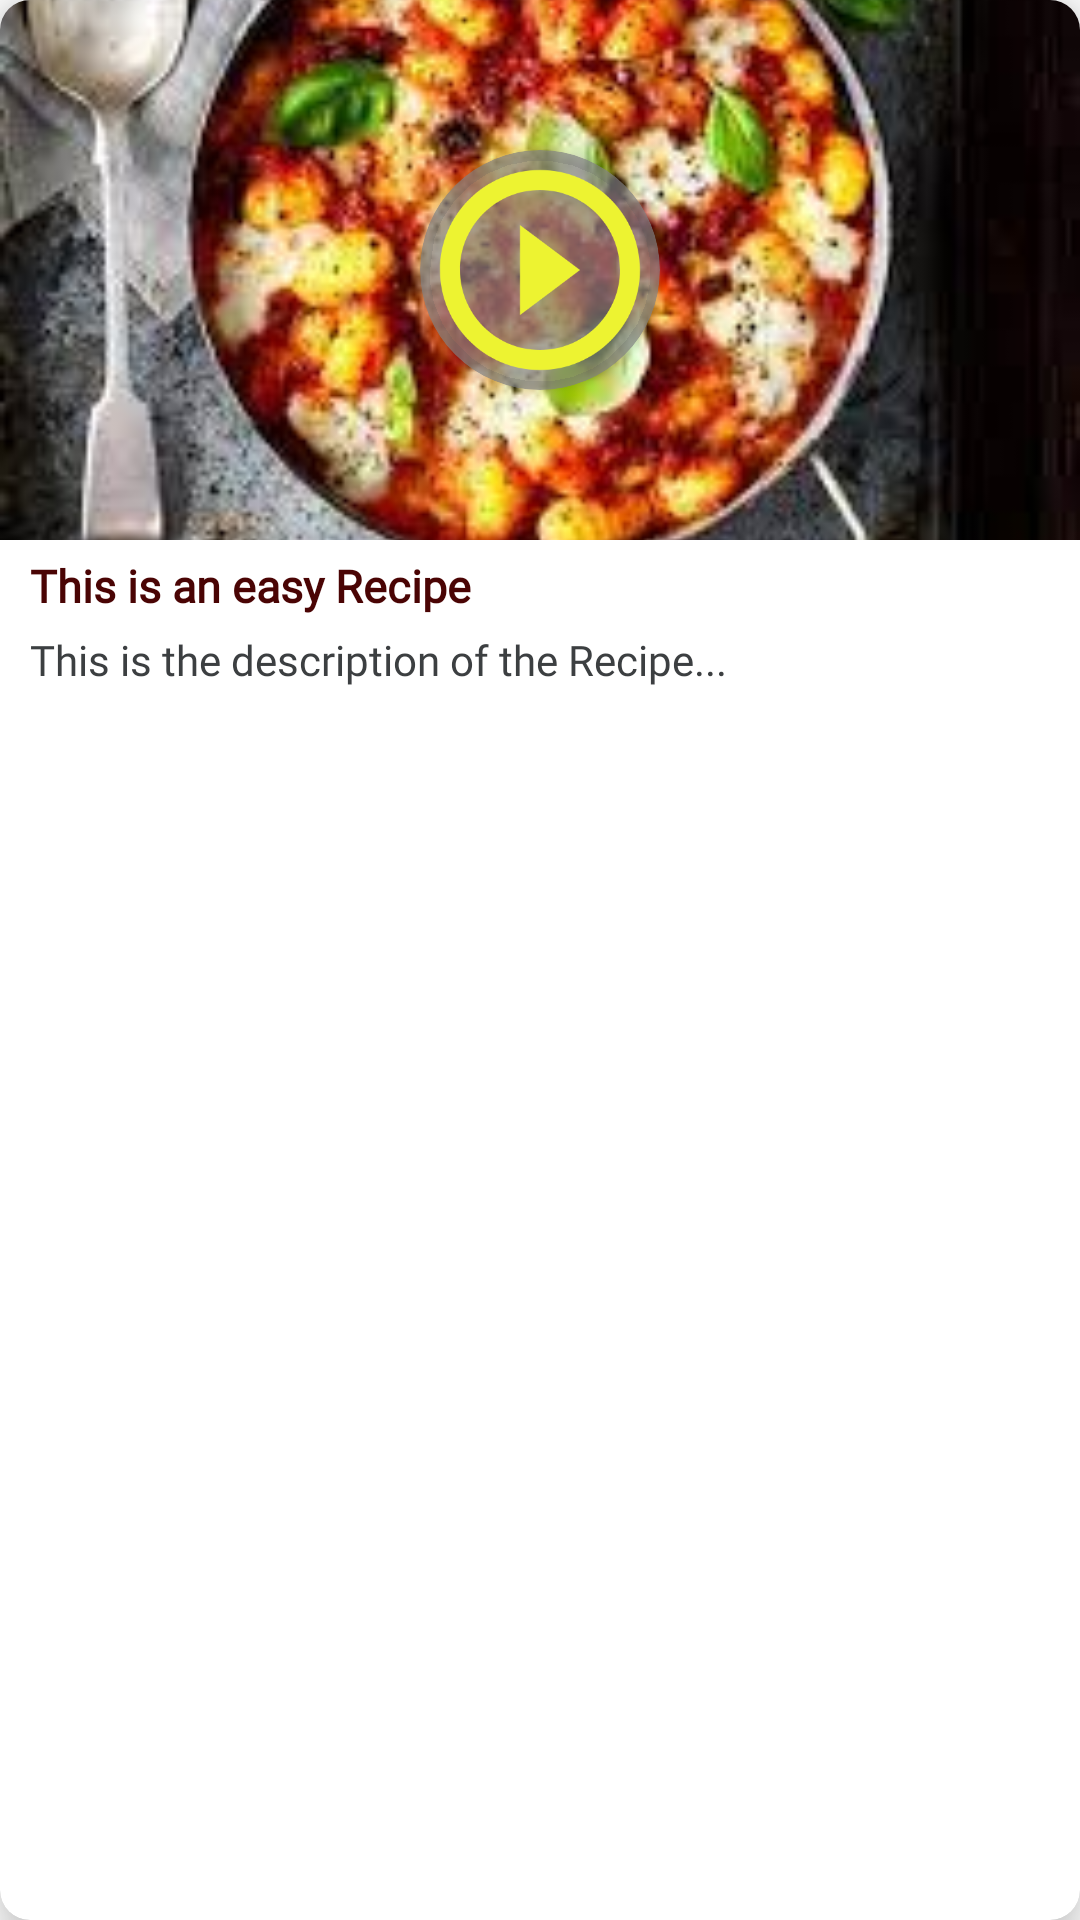

Point at icon controls on the screen. Image size 1080*1920, points as [x,y].
play circle: [540,270]
